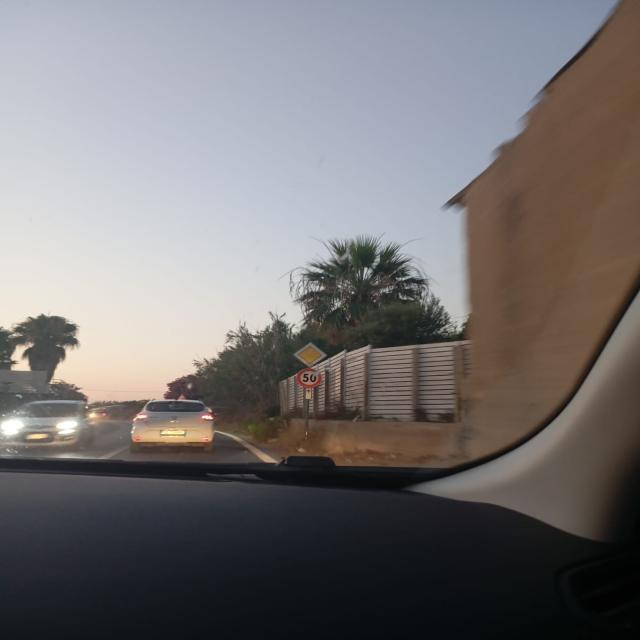forb_speed_over_50: (297, 368, 323, 388)
